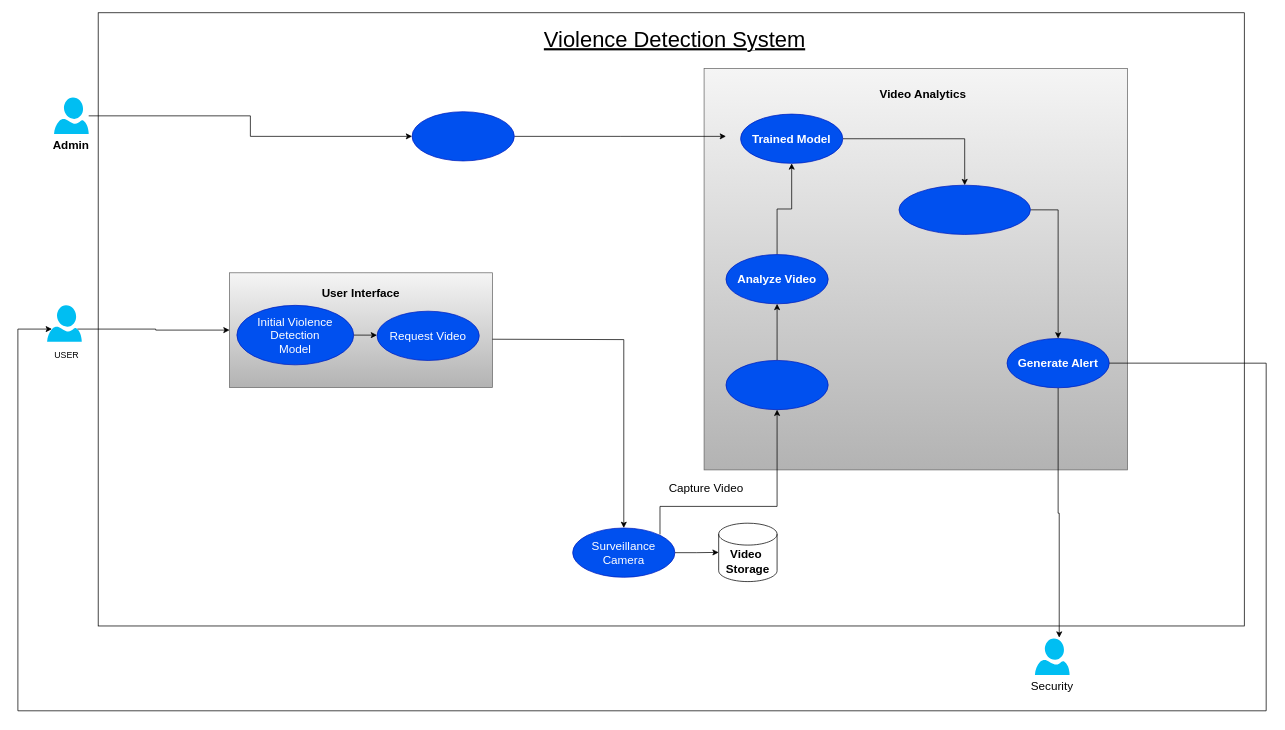
The diagram is 1285 pixels wide and 730 high, and some of its shapes have lost their labels. The box of each missing label's shape, as (x1, y1, x2, y2) in pixels:
Receive Video: (725, 360, 828, 410)
Update Model: (411, 111, 514, 161)
Violence Detected ?: (898, 184, 1030, 234)
